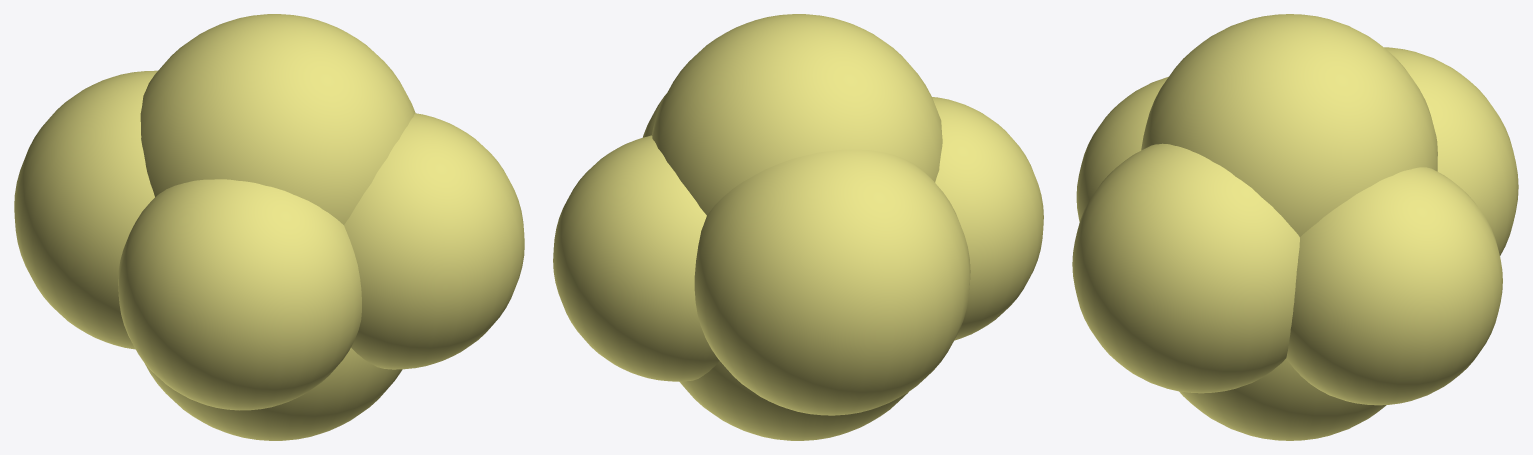
Rendered from Dust.fbx.
3 renders of one model, left to right at view 1: azimuth 30°, elevation 25°; view 2: azimuth 150°, elevation 25°; view 3: azimuth 270°, elevation 25°, orthographic.
Parts seen in each view (by area): view 1: Sphere.004; view 2: Sphere.004; view 3: Sphere.004.
Boxes of the visible parts, bbox=[...] form: Sphere.004: bbox=[14, 14, 524, 440]; Sphere.004: bbox=[553, 14, 1043, 440]; Sphere.004: bbox=[1072, 14, 1518, 440].
Size of the model in its own units: 37794 by 37311 by 37794.
